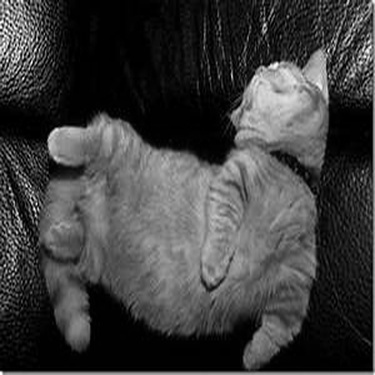cat: (39, 47, 329, 369)
